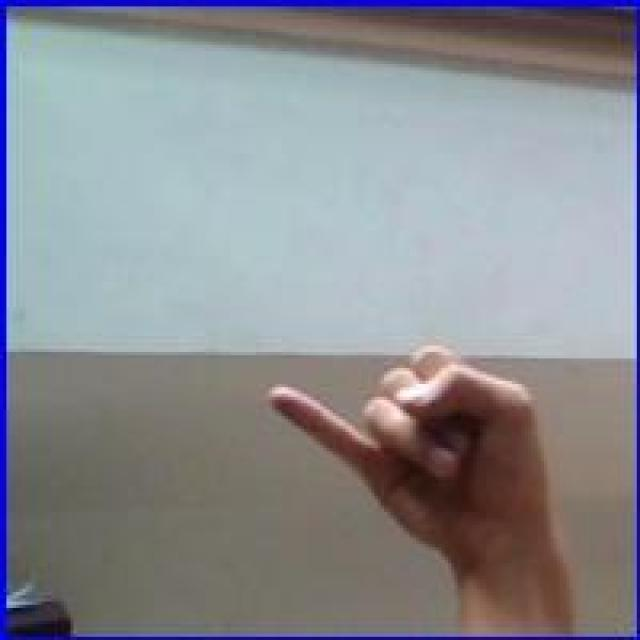J: (266, 338, 566, 558)
